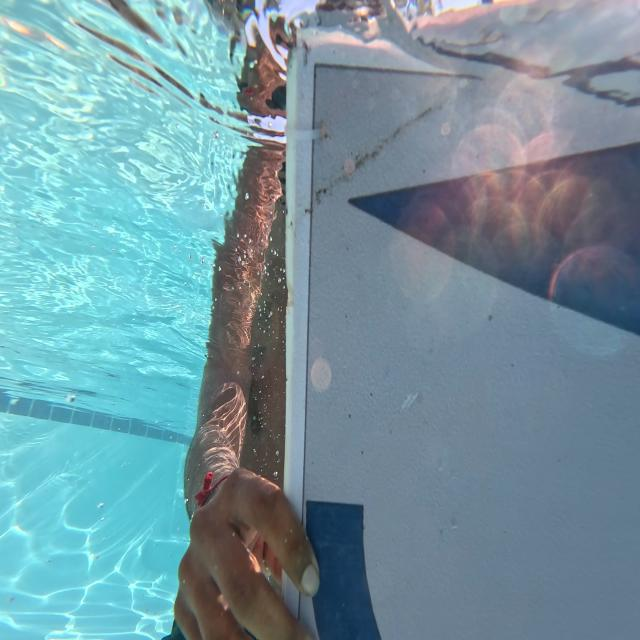blue_side: (292, 46, 640, 640)
